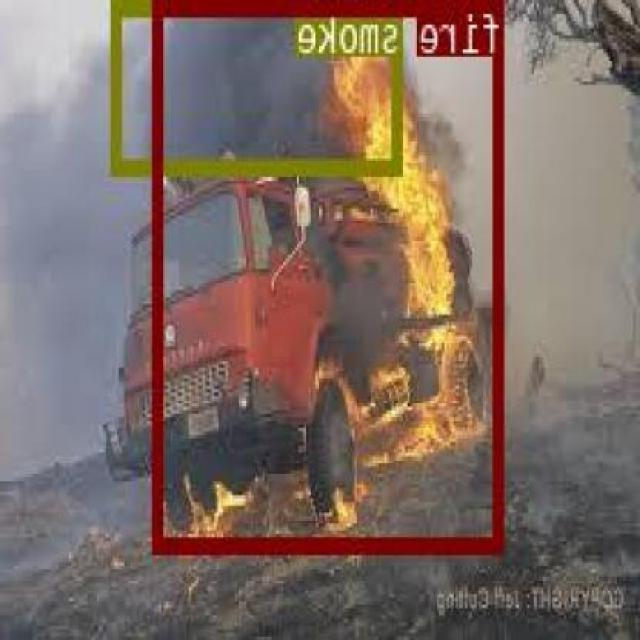Fire: (154, 0, 506, 548)
Smoke: (116, 0, 404, 169)
